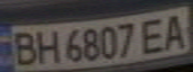0: (96, 22, 121, 61)
6: (60, 25, 84, 63)
7: (115, 19, 142, 57)
8: (81, 25, 103, 62)
A: (157, 10, 193, 51)
B: (6, 28, 42, 67)
E: (136, 14, 175, 54)
H: (30, 26, 60, 65)
